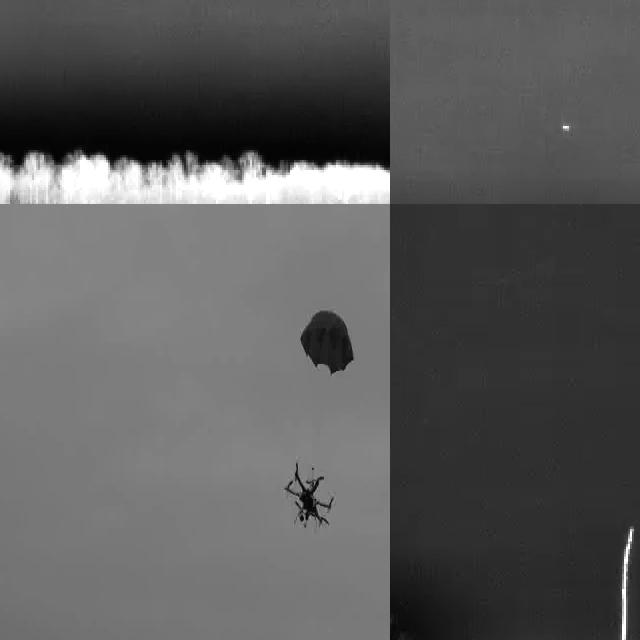1: (548, 116, 576, 146)
drone: (283, 457, 339, 536)
